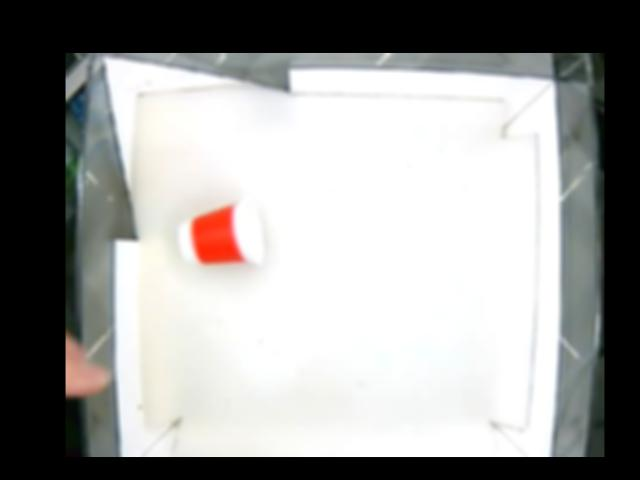Cup: (180, 199, 263, 268)
